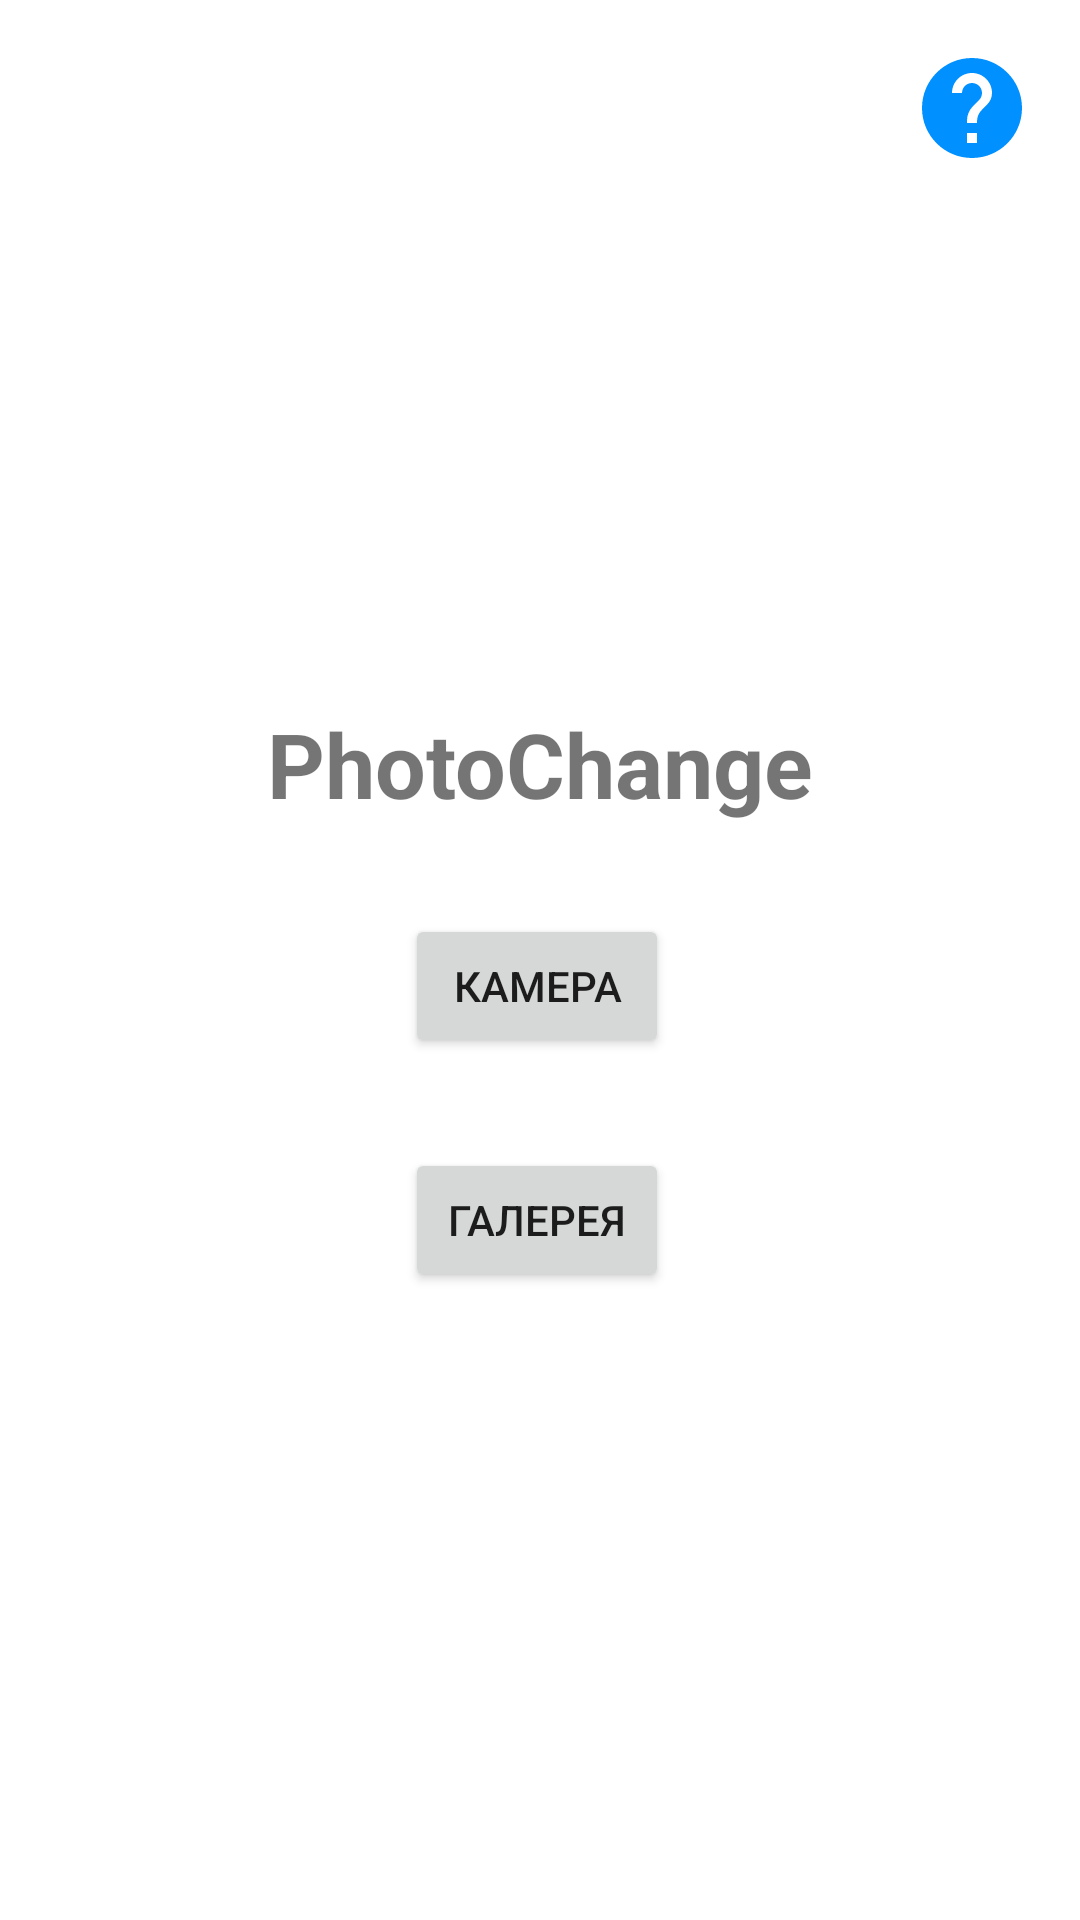

Where to tap for icons on this 1080px×1920px app screen, as point (x, y):
help: point (972, 108)
